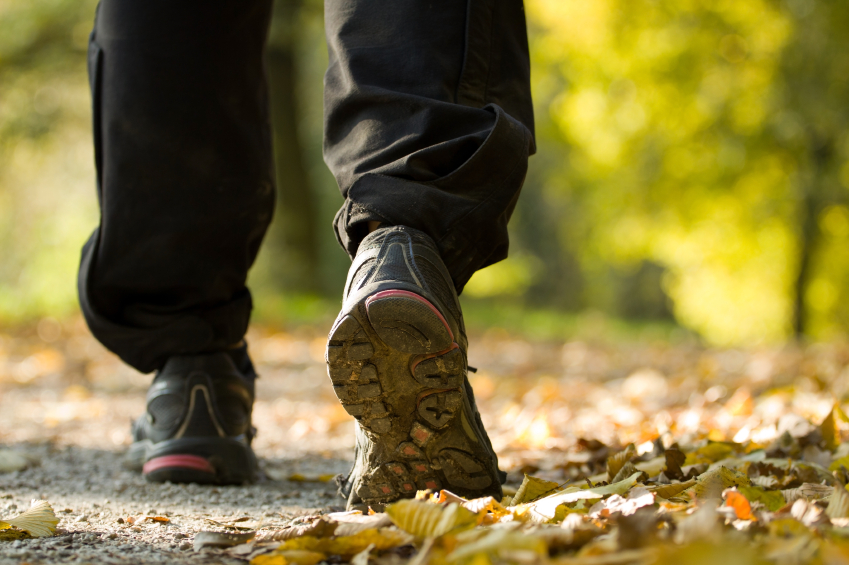feet: (68, 210, 525, 526)
